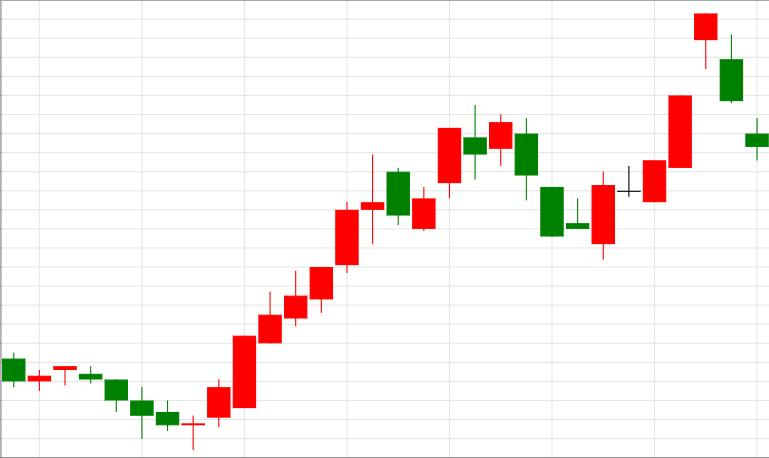hanging_man_fall: (592, 13, 719, 260)
morning_star_rise: (80, 366, 230, 451)
